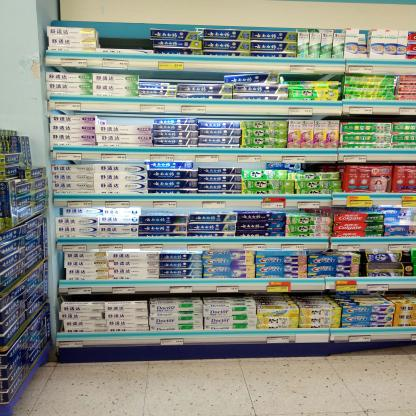Void: (140, 71, 221, 83), (98, 29, 148, 46), (301, 161, 339, 174), (289, 74, 339, 81)
